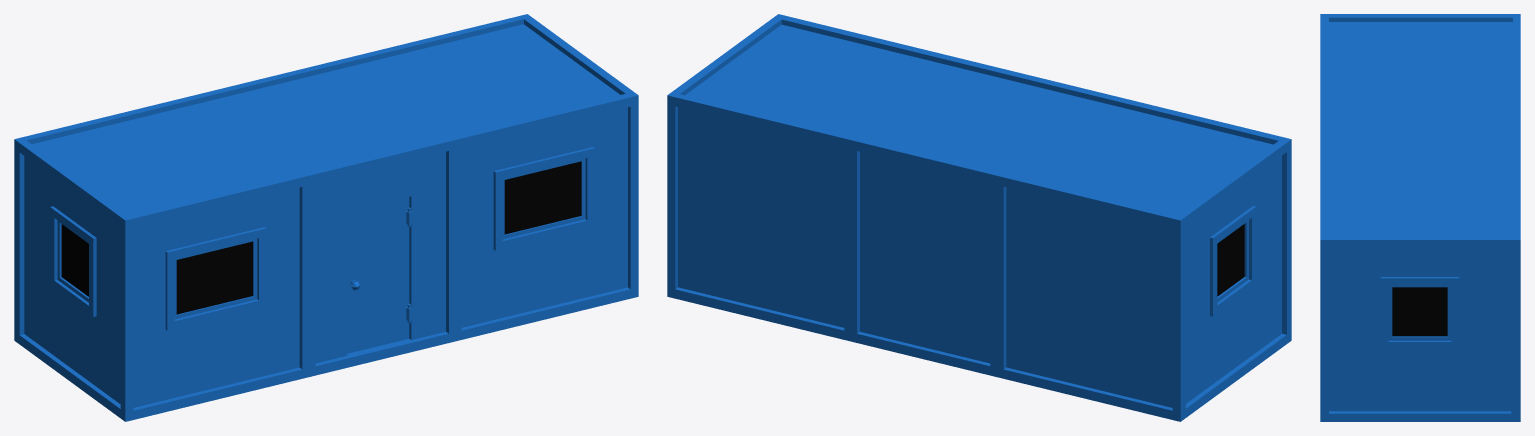
The model's file is SM_trailer.fbx.
3 renders of one model, left to right at view 1: azimuth 30°, elevation 25°; view 2: azimuth 150°, elevation 25°; view 3: azimuth 270°, elevation 25°, orthographic. The views are drawn at different scales.
Parts seen in each view (by area): view 1: Cube_32, Cylinder_20; view 2: Cube_32; view 3: Cube_32.
Part boxes in pixels (<box>): Cube_32: <box>14,14,638,421</box>; Cylinder_20: <box>347,197,412,353</box>; Cube_32: <box>667,14,1291,421</box>; Cube_32: <box>1320,14,1520,421</box>.
Size of the model in its own units: 800 by 300 by 300.
